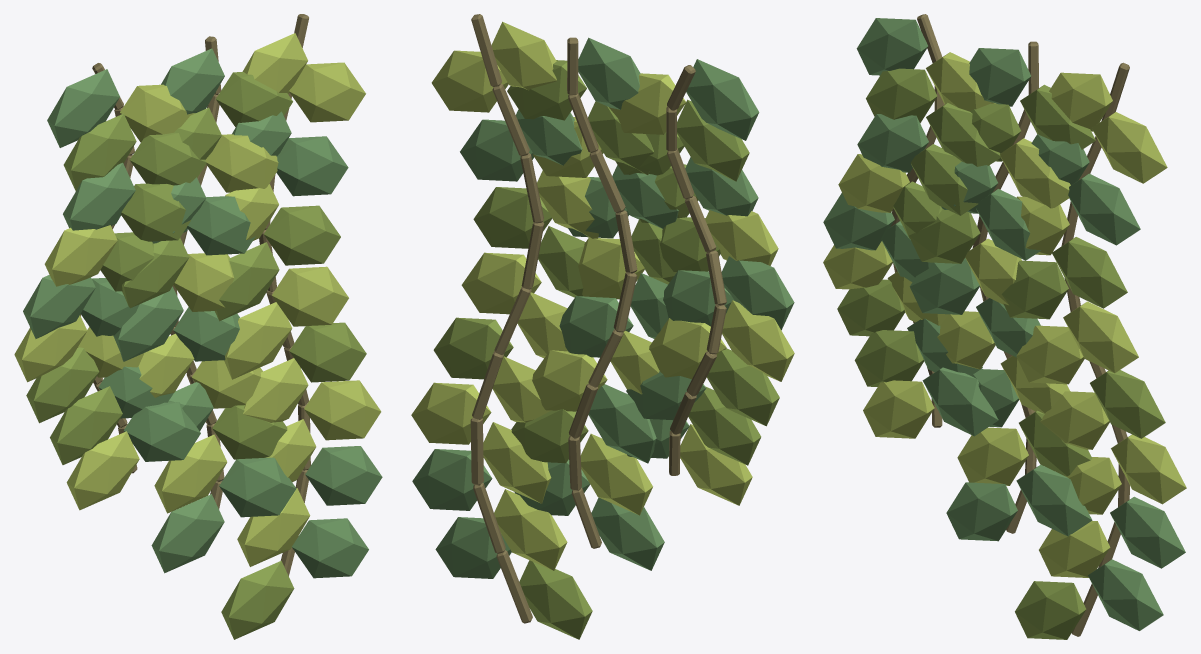
The model's file is vines_0.glb.
The picture shows the model from 3 angles, left to right: view 1: azimuth 30°, elevation 25°; view 2: azimuth 150°, elevation 25°; view 3: azimuth 330°, elevation 25°; orthographic projection. The views are drawn at different scales.
Parts seen in each view (by area): view 1: vines_0; view 2: vines_0; view 3: vines_0.
Boxes of the visible parts, left/top/right/bottom form: vines_0: left=14, top=14, right=382, bottom=639; vines_0: left=411, top=14, right=794, bottom=639; vines_0: left=823, top=14, right=1186, bottom=639.
Size of the model in its own units: 1.04 by 1.62 by 0.1286.
